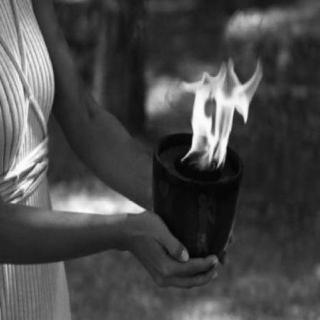Fire: (176, 61, 268, 170)
